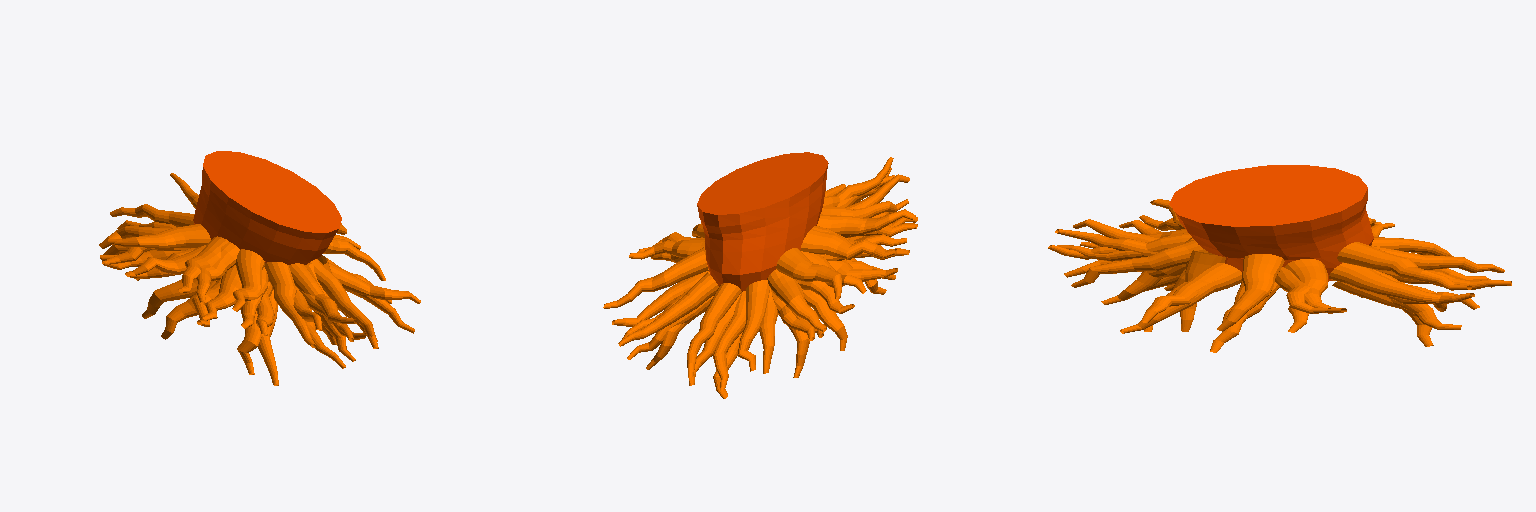
File: anemo.obj
3 views of the same model, side by side, from view 1: azimuth 30°, elevation 25°; view 2: azimuth 150°, elevation 25°; view 3: azimuth 270°, elevation 25° (orthographic).
Visible parts, largest first — view 1: Oil_Tank.1; view 2: Oil_Tank.1; view 3: Oil_Tank.1.
Boxes of the visible parts, box(x1,y1,x2,y2) form: Oil_Tank.1: box(99, 151, 420, 385); Oil_Tank.1: box(603, 152, 917, 398); Oil_Tank.1: box(1048, 165, 1511, 352).
Bounding box in the file's own units: 283 × 185 × 517.